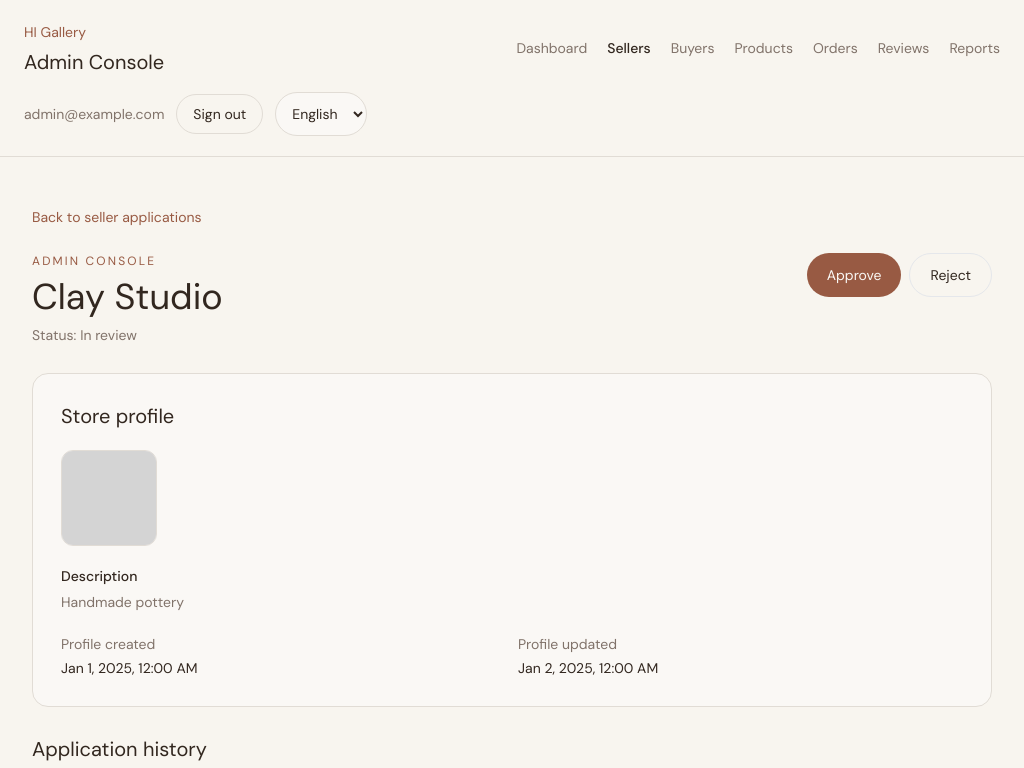
Test: admin seller review › shows seller details and requires confirmation before approval
Expected: the heading "Clay Studio" is shown, [32, 277, 223, 317]
Expected: the text "Handmade pottery" is shown, [61, 593, 184, 611]
Click the button "Approve" at [854, 275], box [807, 253, 902, 297]
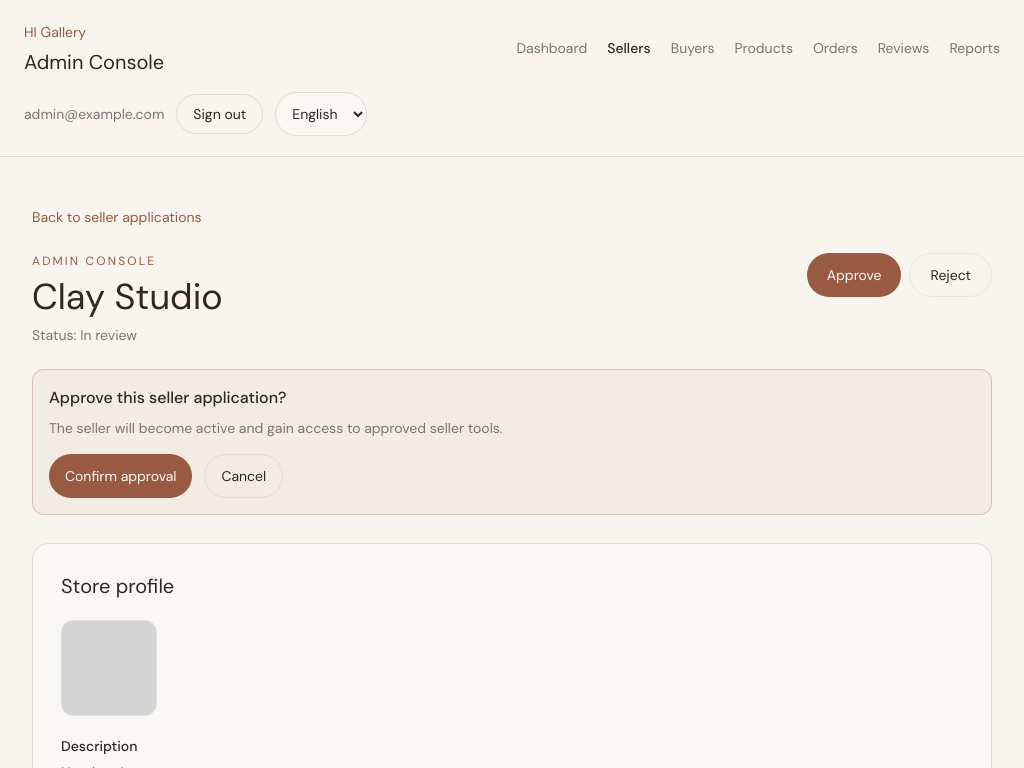
Now the dialog "Approve this seller application?" is shown, box [32, 369, 992, 515]
Click the button "Confirm approval" at [121, 476], box [49, 454, 192, 498]
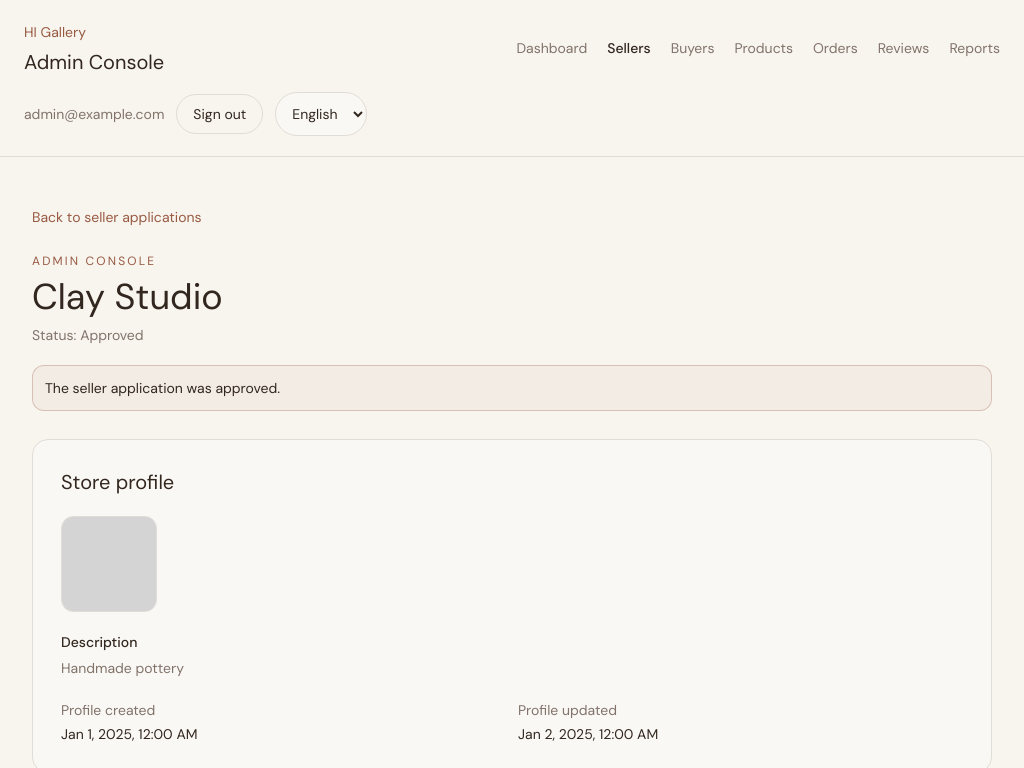
Now the text "The seller application was approved." is shown, box [32, 365, 992, 411]
Now the text "Status: Approved" is shown, box [32, 326, 144, 344]
